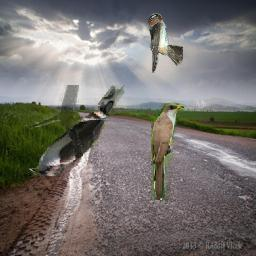Cuckoo: (29, 86, 125, 177), (152, 104, 185, 201)
Swallow: (147, 13, 183, 73)
